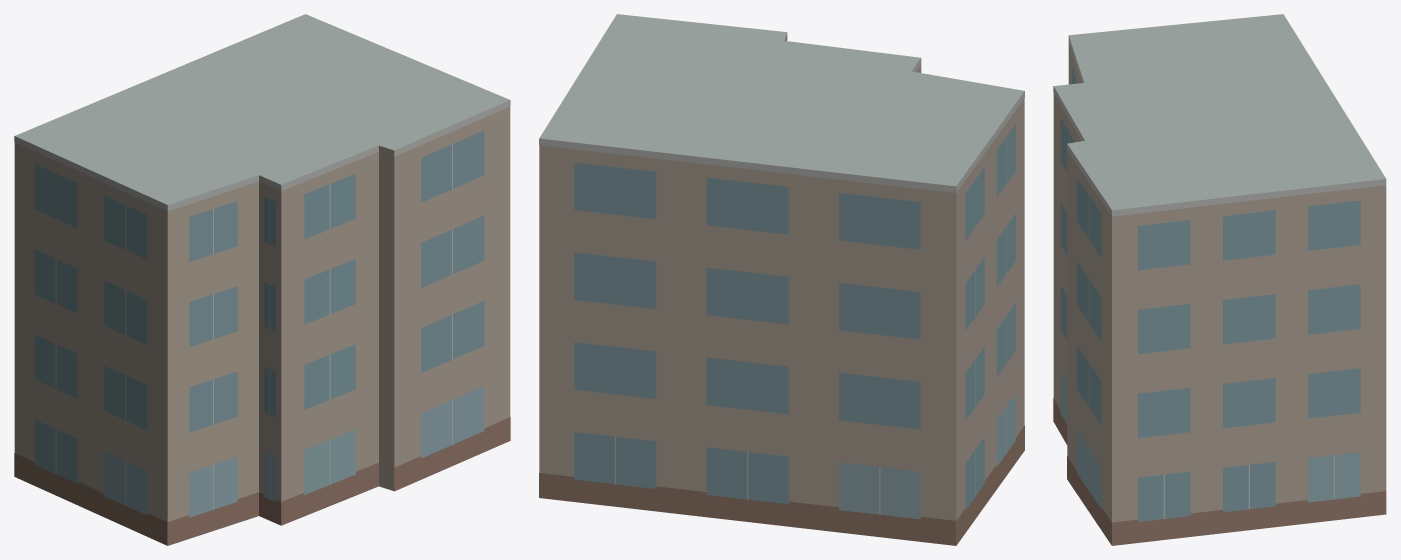
File: survey-upis-32858712.glb
The picture shows the model from 3 angles, left to right: view 1: azimuth 30°, elevation 25°; view 2: azimuth 150°, elevation 25°; view 3: azimuth 270°, elevation 25°; orthographic projection. The views are drawn at different scales.
Parts seen in each view (by area): view 1: survey-upis-32858712.tmp; view 2: survey-upis-32858712.tmp; view 3: survey-upis-32858712.tmp.
Boxes of the visible parts, box(x1,y1,x2,y2) form: survey-upis-32858712.tmp: box(14, 14, 510, 545); survey-upis-32858712.tmp: box(539, 14, 1024, 545); survey-upis-32858712.tmp: box(1053, 14, 1386, 545).
Bounding box in the file's own units: 16.48 × 13.12 × 11.8.
